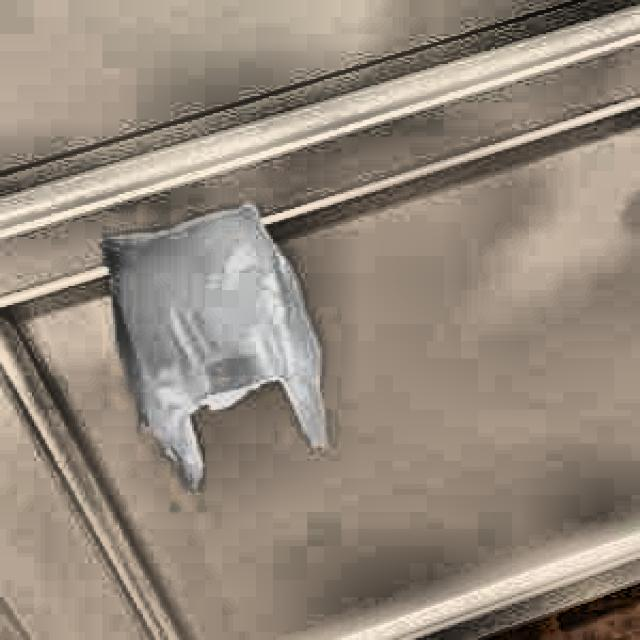Plastic: (77, 192, 350, 487)
